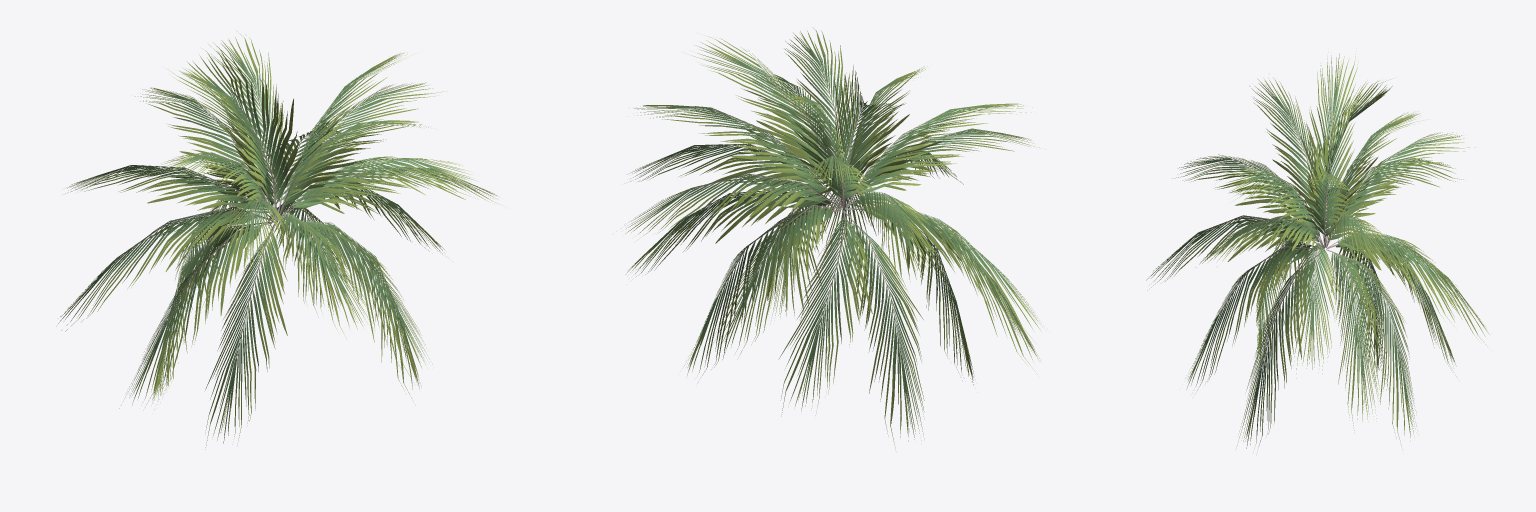
Rendered from m_palm_p2_7_leaf_0.001.glb.
The picture shows the model from 3 angles, left to right: view 1: azimuth 30°, elevation 25°; view 2: azimuth 150°, elevation 25°; view 3: azimuth 270°, elevation 25°; orthographic projection. The views are drawn at different scales.
Visible parts, largest first — view 1: M_Palm_P2_7_Leaf_0.001; view 2: M_Palm_P2_7_Leaf_0.001; view 3: M_Palm_P2_7_Leaf_0.001.
Boxes of the visible parts, <box> form: M_Palm_P2_7_Leaf_0.001: <box>56,30,504,449</box>; M_Palm_P2_7_Leaf_0.001: <box>625,27,1042,450</box>; M_Palm_P2_7_Leaf_0.001: <box>1146,48,1489,450</box>.
Size of the model in its own units: 4.18 by 3.26 by 3.12.
Materials: 1 (1 with a texture image).
